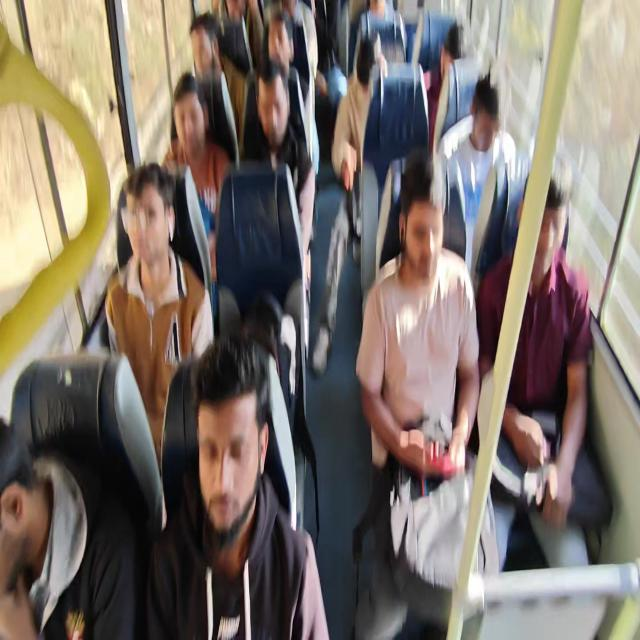person: (100, 1, 600, 637), (355, 148, 500, 638), (144, 334, 330, 638), (476, 170, 594, 570), (104, 162, 215, 493), (0, 417, 138, 639), (311, 33, 386, 376), (242, 7, 316, 289), (440, 72, 517, 280), (171, 70, 234, 292), (331, 34, 386, 261), (189, 12, 239, 164), (424, 22, 462, 154)
